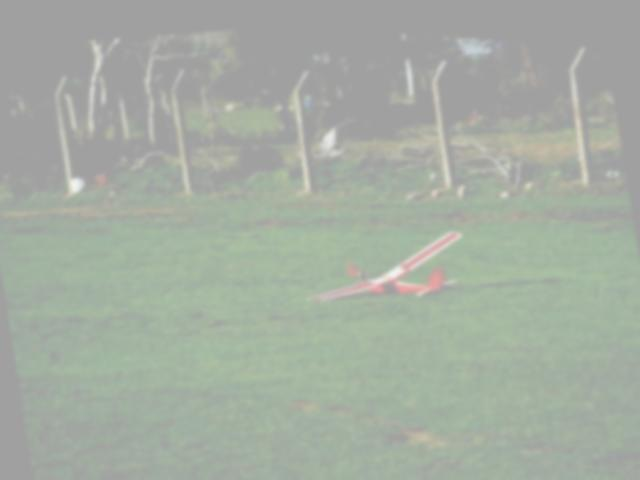iha: (288, 202, 481, 316)
